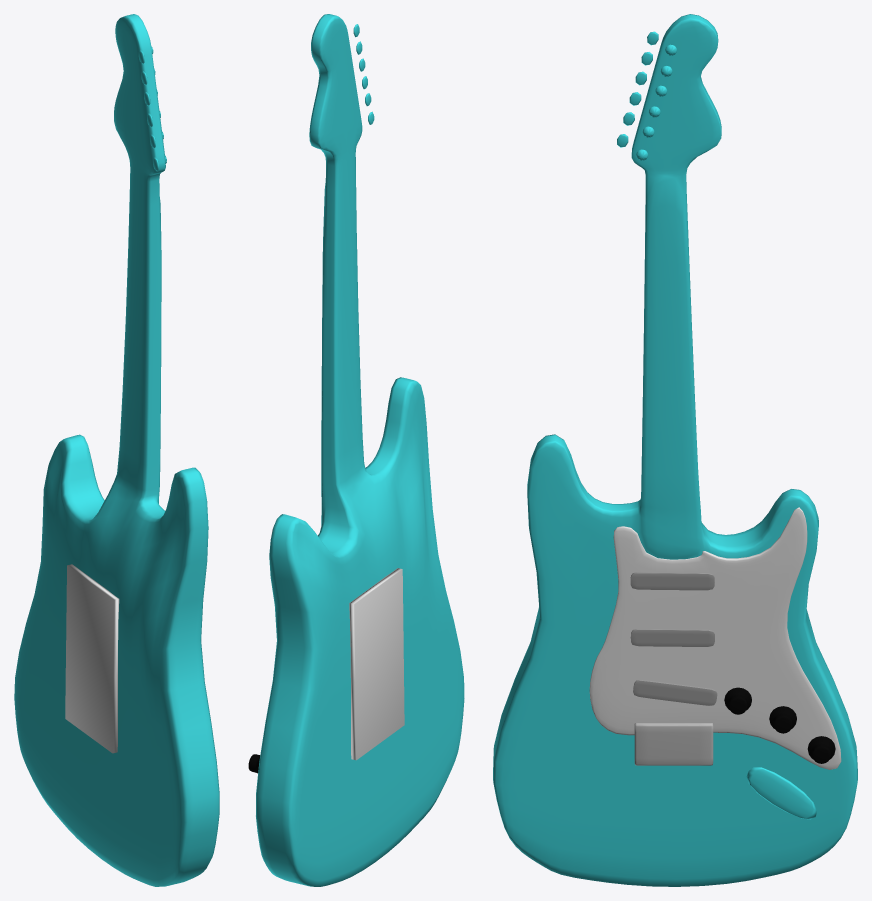
Rendered from Electric_Guitar_Early.fbx.
The picture shows the model from 3 angles, left to right: view 1: azimuth 30°, elevation 25°; view 2: azimuth 150°, elevation 25°; view 3: azimuth 270°, elevation 25°; orthographic projection. The views are drawn at different scales.
Parts seen in each view (by area): view 1: Cube; view 2: Cube; view 3: Cube.
Boxes of the visible parts, x1=… form: Cube: x1=14, y1=14, x2=219, y2=886; Cube: x1=248, y1=14, x2=464, y2=886; Cube: x1=493, y1=14, x2=857, y2=886.
Bounding box in the file's own units: 22.41 × 291 × 110.
